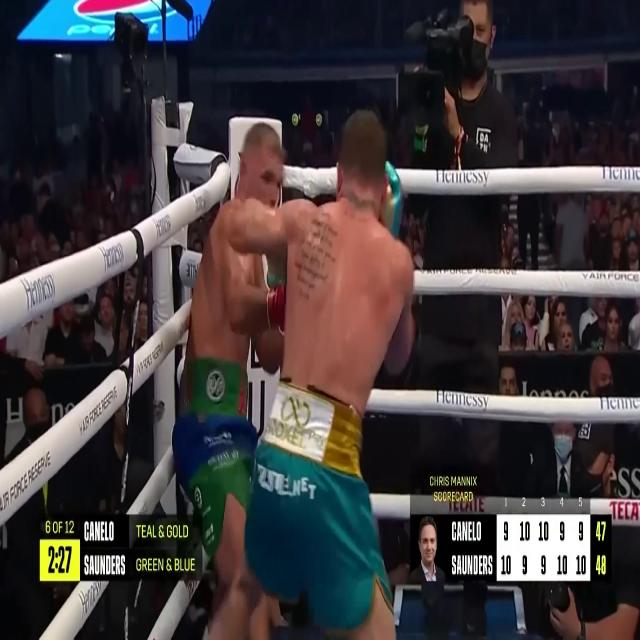boxer_1: (189, 125, 283, 364)
boxer_2: (281, 114, 412, 419)
gloves_1: (267, 287, 287, 332)
gloves_2: (381, 161, 404, 237), (267, 273, 283, 288)
